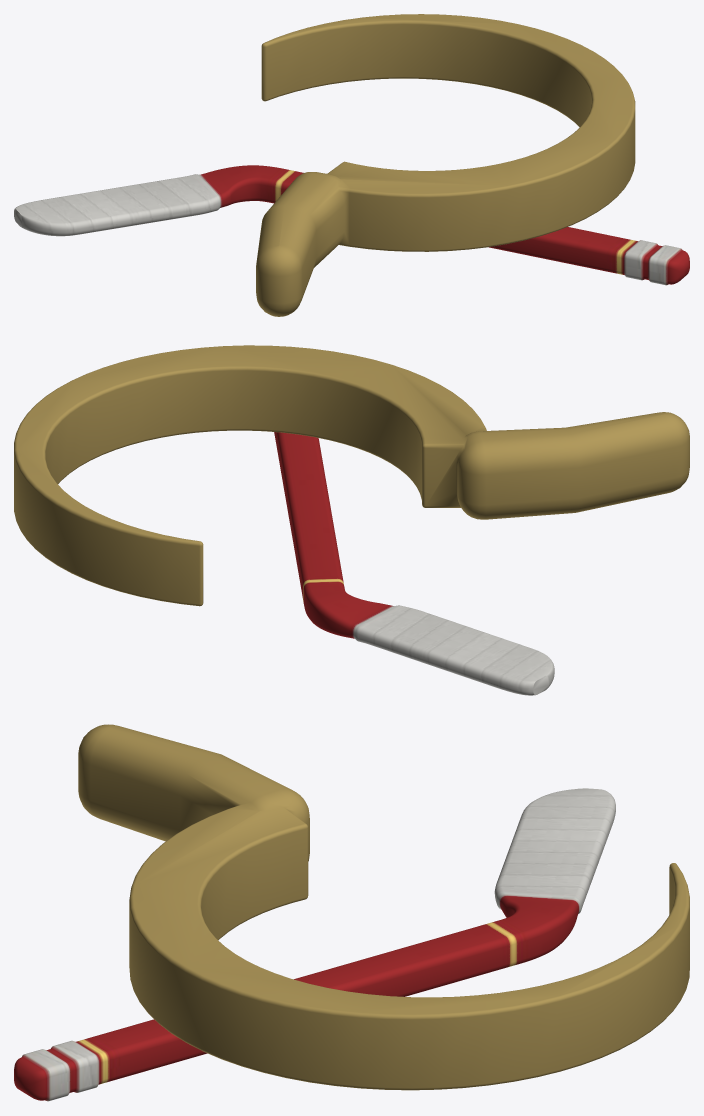
The model's file is soviet_canada_emblem.glb.
3 views of the same model, one above another, from view 1: azimuth 30°, elevation 25°; view 2: azimuth 150°, elevation 25°; view 3: azimuth 270°, elevation 25° (orthographic). The views are drawn at different scales.
Size of the model in its own units: 4.88 by 0.925 by 4.22.
2 materials, 1 textured.
